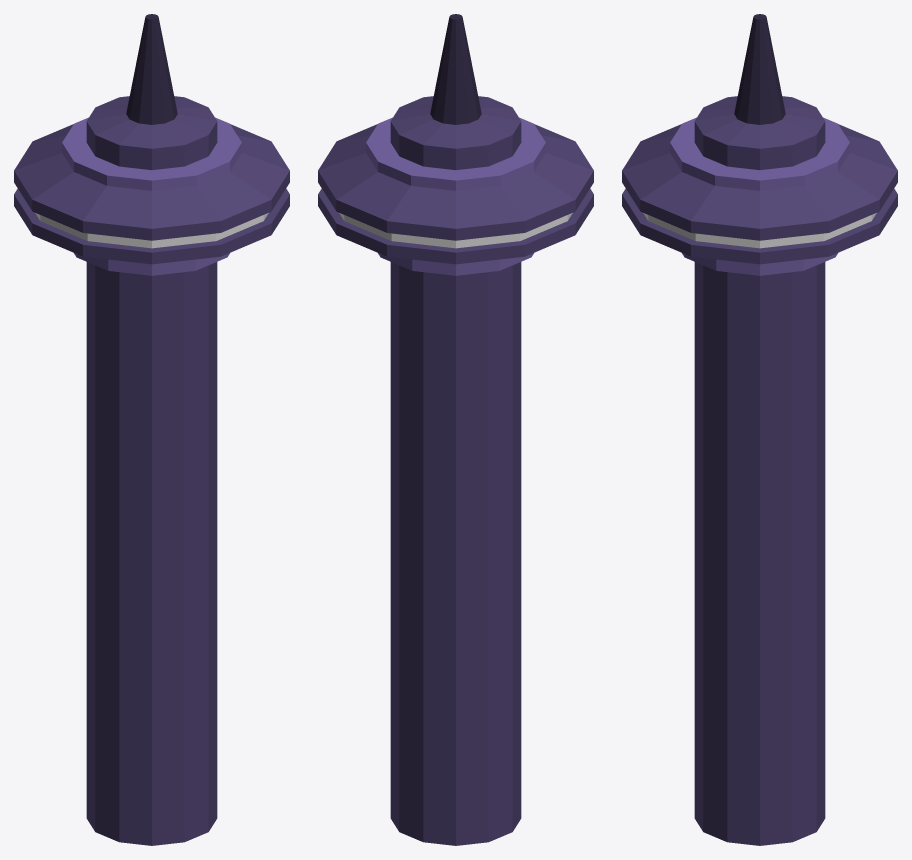
Rendered from Tour.fbx.
3 renders of one model, left to right at view 1: azimuth 30°, elevation 25°; view 2: azimuth 150°, elevation 25°; view 3: azimuth 270°, elevation 25°, orthographic.
Parts seen in each view (by area): view 1: Tour.001; view 2: Tour.001; view 3: Tour.001.
Boxes of the visible parts, x1=… form: Tour.001: x1=14, y1=14, x2=289, y2=845; Tour.001: x1=318, y1=14, x2=593, y2=845; Tour.001: x1=622, y1=14, x2=897, y2=845.
Size of the model in its own units: 445 by 1425 by 445.
